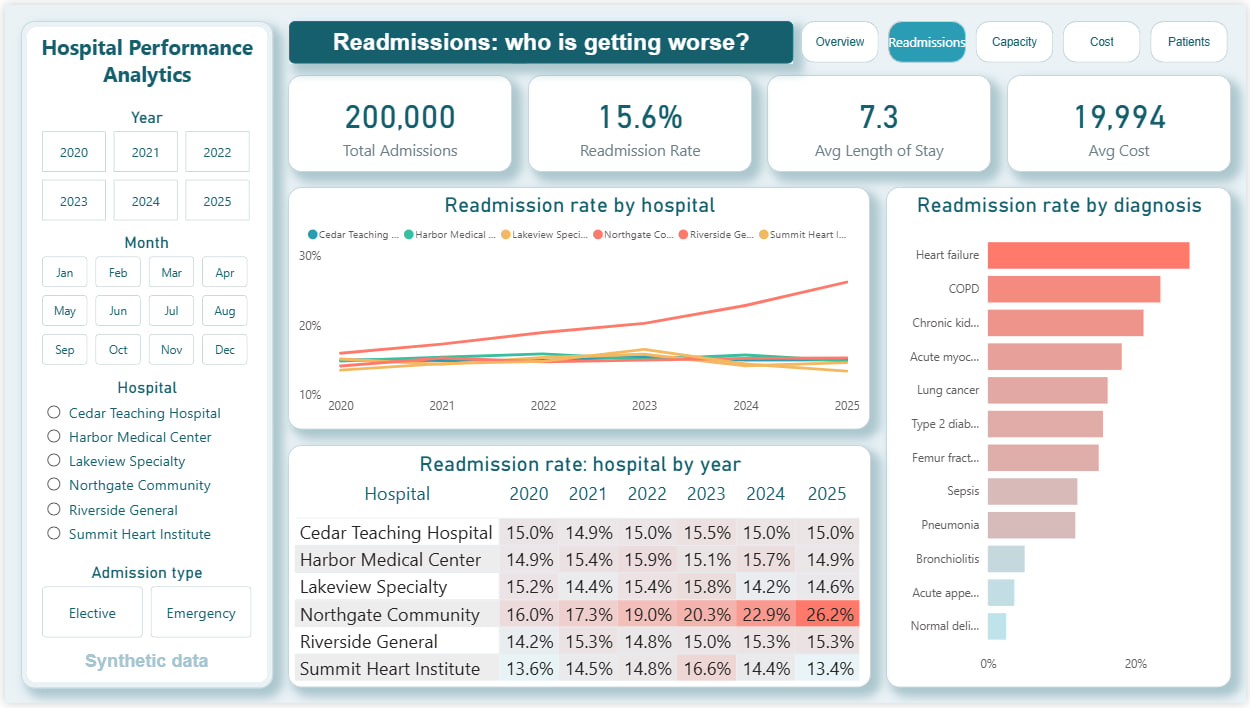

What the dashboard file says about the page in this screenshot:
{"tool":"powerbi","page":{"name":"Readmissions","canvas":[1280,720],"ordinal":1},"visuals":[{"type":"shape","box":[16,16,260,688],"z":0},{"type":"textbox","box":[16,24,260,80],"z":1000},{"type":"listSlicer","title":"Hospital","fields":{"Values":["dim_hospital.hospital_name"]},"box":[35.9,383.3,220.8,231.6],"z":2000},{"type":"advancedSlicerVisual","fields":{"Values":["Date Table.Year"]},"box":[35.9,104.1,220,120.3],"z":3000},{"type":"advancedSlicerVisual","fields":{"Values":["Date Table.Month"]},"box":[35.9,232.5,220,140],"z":4000},{"type":"advancedSlicerVisual","title":"Admission type","fields":{"Values":["fact_admissions.admission_type"]},"box":[35.9,573.7,220.8,81.7],"z":5000},{"type":"card","fields":{"Values":["fact_admissions.Avg Length of Stay"]},"box":[786,72,231,100],"z":6000},{"type":"card","fields":{"Values":["fact_admissions.Total Admissions"]},"box":[292,72,231,100],"z":7000},{"type":"card","fields":{"Values":["fact_admissions.Avg Cost"]},"box":[1033,72,231,100],"z":8000},{"type":"card","fields":{"Values":["fact_admissions.Readmission Rate"]},"box":[539,72,231,100],"z":9000},{"type":"shape","box":[292.7,16.2,520,44],"z":10000},{"type":"lineChart","title":"Readmission rate by hospital","fields":{"Category":["Date Table.Year"],"Series":["dim_hospital.hospital_name"],"Y":["fact_admissions.Readmission Rate"]},"box":[292,188,600,250],"z":11000},{"type":"clusteredBarChart","title":"Readmission rate by diagnosis","fields":{"Category":["dim_diagnosis.diagnosis"],"Y":["fact_admissions.Readmission Rate"]},"box":[908,188,356,516],"z":12000},{"type":"pivotTable","title":"Readmission rate: hospital by year","fields":{"Columns":["Date Table.Year"],"Rows":["dim_hospital.hospital_name"],"Values":["fact_admissions.Readmission Rate"]},"box":[291.8,453.6,600.8,250.1],"z":13000},{"type":"shape","box":[36.8,661.6,218.2,30.5],"z":14000},{"type":"pageNavigator","box":[820.5,16.2,443.5,44],"z":15000}]}

Visuals, with their boxes in screenshot pixels (x1, y1, x2, y2), scaled from the page's 1280x720 canvas onto the 1250x708 screenshot:
shape: x1=16, y1=16, x2=270, y2=692
textbox: x1=16, y1=24, x2=270, y2=102
"Hospital" listSlicer: x1=35, y1=377, x2=251, y2=605
advancedSlicerVisual - Date Table.Year: x1=35, y1=102, x2=250, y2=221
advancedSlicerVisual - Date Table.Month: x1=35, y1=229, x2=250, y2=366
"Admission type" advancedSlicerVisual: x1=35, y1=564, x2=251, y2=644
card - fact_admissions.Avg Length of Stay: x1=768, y1=71, x2=993, y2=169
card - fact_admissions.Total Admissions: x1=285, y1=71, x2=511, y2=169
card - fact_admissions.Avg Cost: x1=1009, y1=71, x2=1234, y2=169
card - fact_admissions.Readmission Rate: x1=526, y1=71, x2=752, y2=169
shape: x1=286, y1=16, x2=794, y2=59
"Readmission rate by hospital" lineChart: x1=285, y1=185, x2=871, y2=431
"Readmission rate by diagnosis" clusteredBarChart: x1=887, y1=185, x2=1234, y2=692
"Readmission rate: hospital by year" pivotTable: x1=285, y1=446, x2=872, y2=692
shape: x1=36, y1=651, x2=249, y2=681
pageNavigator: x1=801, y1=16, x2=1234, y2=59
